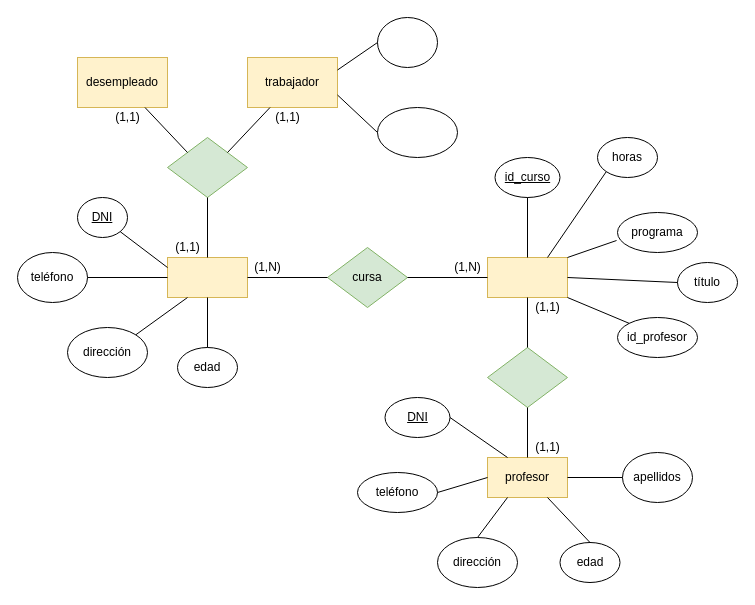
Some shapes in this 755 by 605 pixel diagram are drawn without their labels. Each missing label, with the centre of its shape:
alumno: point 207,277
CIF: point 407,42
curso: point 527,277
dirección empresa: point 417,132
imparte: point 527,377
puede ser: point 207,167
